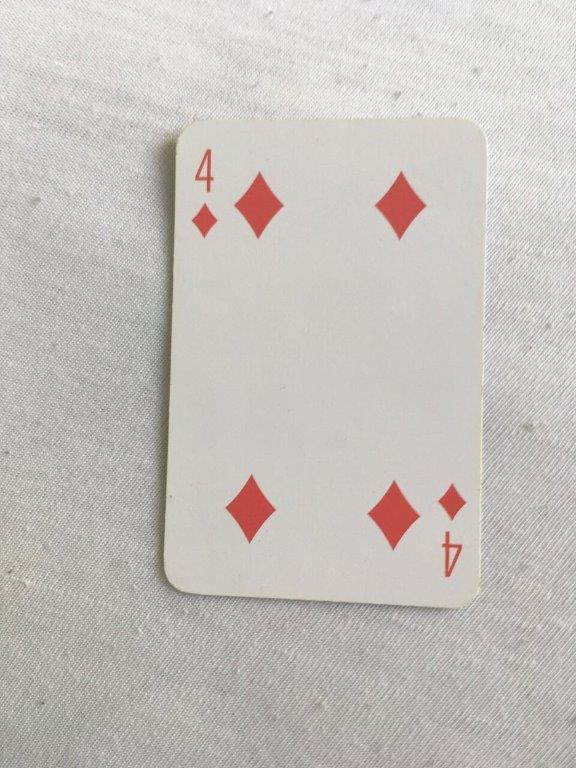4D: (159, 114, 493, 616)
